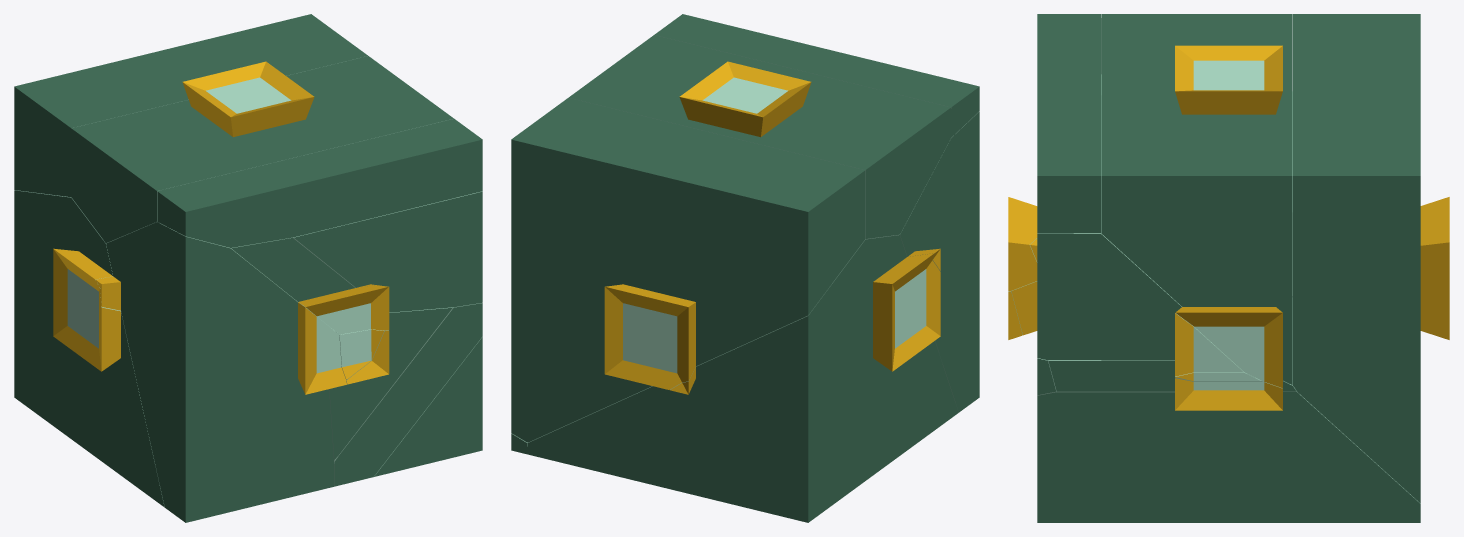
File: DestroyPartOfCube.fbx
3 renders of one model, left to right at view 1: azimuth 30°, elevation 25°; view 2: azimuth 150°, elevation 25°; view 3: azimuth 270°, elevation 25°, orthographic. The views are drawn at different scales.
Parts seen in each view (by area): view 1: Cube_cell.009, Cube_cell.006, Cube_cell.005, Cube_cell.007, Cube_cell.004, Cube_cell.001, Cube_cell.010, Cube_cell.002, Cube_cell.008, Cube_cell.003, Cube_cell; view 2: Cube_cell.004, Cube_cell.005, Cube_cell.006, Cube_cell.009, Cube_cell.007; view 3: Cube_cell.006, Cube_cell.004, Cube_cell.003, Cube_cell.001, Cube_cell.007, Cube_cell.008, Cube_cell.011, Cube_cell.002, Cube_cell.010.
Part boxes in pixels (x1,y1,x2,y2): Cube_cell.009: (96, 222, 346, 522); Cube_cell.006: (71, 56, 453, 243); Cube_cell.005: (14, 190, 164, 507); Cube_cell.007: (157, 118, 482, 247); Cube_cell.004: (14, 14, 367, 197); Cube_cell.001: (291, 191, 482, 312); Cube_cell.010: (334, 303, 482, 486); Cube_cell.002: (230, 238, 389, 334); Cube_cell.008: (329, 307, 455, 463); Cube_cell.003: (374, 337, 482, 476); Cube_cell: (346, 330, 389, 384); Cube_cell.004: (511, 98, 865, 442); Cube_cell.005: (527, 235, 958, 522); Cube_cell.006: (568, 35, 951, 239); Cube_cell.009: (900, 111, 979, 412); Cube_cell.007: (654, 14, 979, 137); Cube_cell.006: (1101, 14, 1292, 388); Cube_cell.004: (1293, 14, 1449, 503); Cube_cell.003: (1037, 392, 1420, 522); Cube_cell.001: (1030, 95, 1243, 376); Cube_cell.007: (1037, 14, 1101, 233); Cube_cell.008: (1011, 281, 1297, 392); Cube_cell.011: (1175, 378, 1282, 410); Cube_cell.002: (1008, 197, 1037, 290); Cube_cell.010: (1037, 358, 1056, 395).
Bounding box in the file's own units: 230 × 230 × 230.
